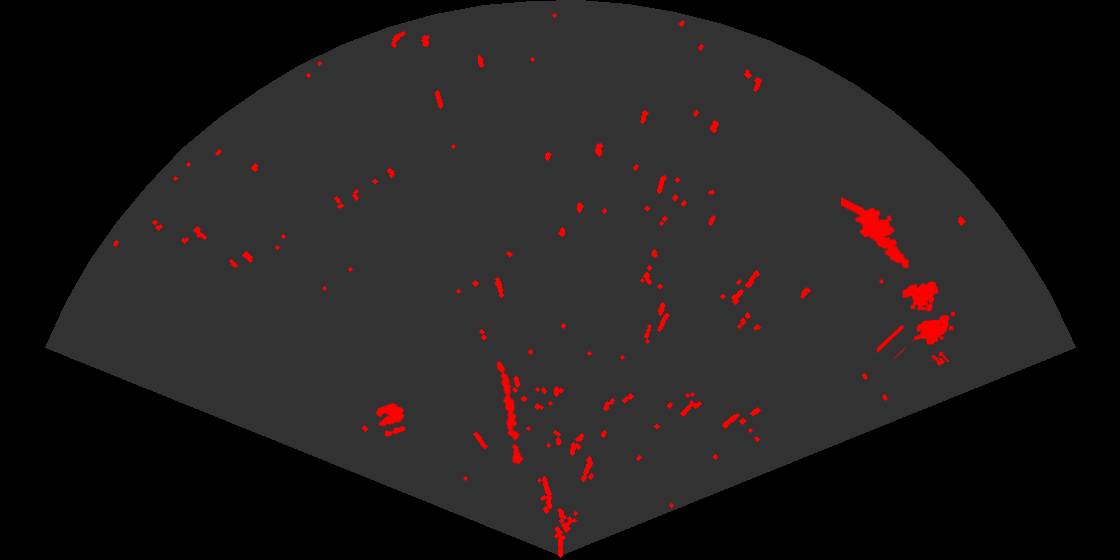ball: (374, 401, 407, 438)
cage: (877, 280, 957, 362)
chain: (495, 359, 525, 467)
frogman: (841, 195, 911, 270)
